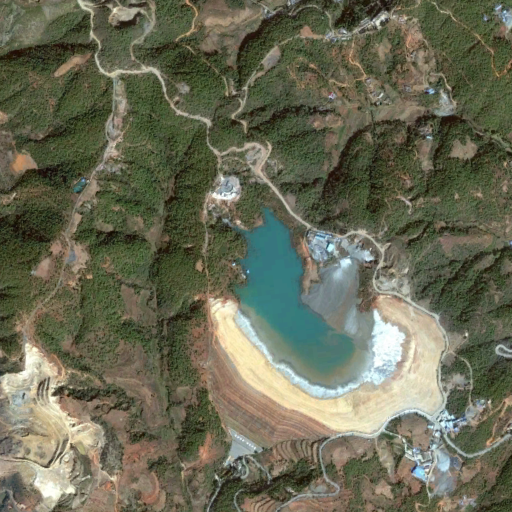tp: (200, 211, 446, 465)
